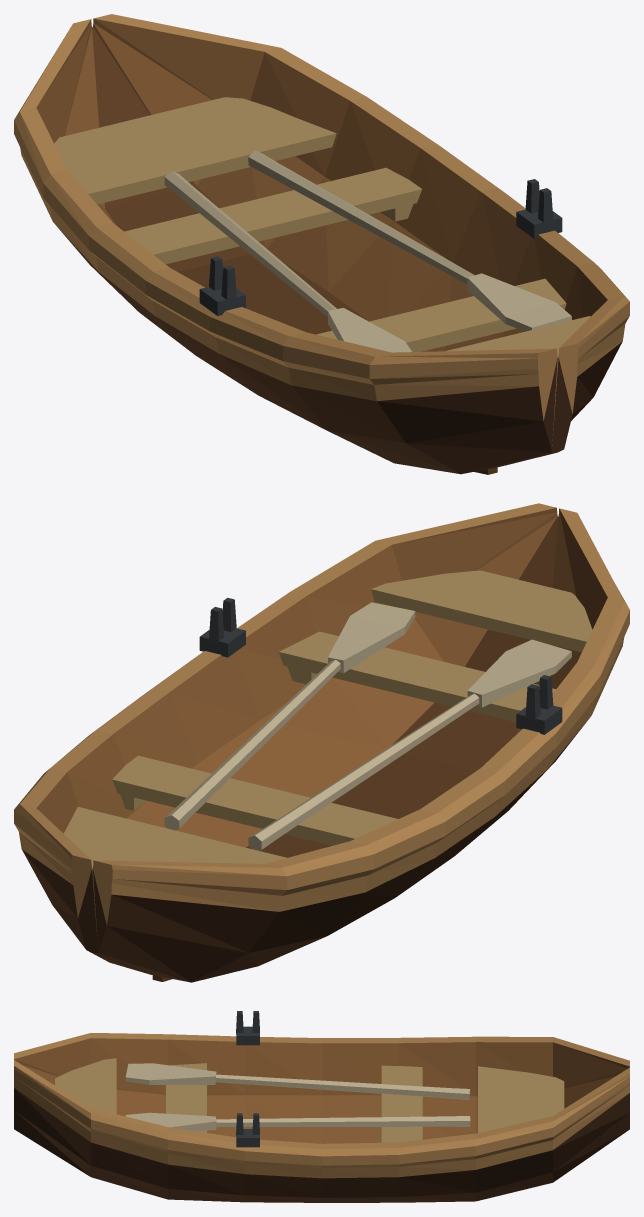
Rendered from rowboat.glb.
The picture shows the model from 3 angles, top to bottom: view 1: azimuth 30°, elevation 25°; view 2: azimuth 150°, elevation 25°; view 3: azimuth 270°, elevation 25°; orthographic projection. The views are drawn at different scales.
Size of the model in its own units: 1.34 by 0.715 by 3.
